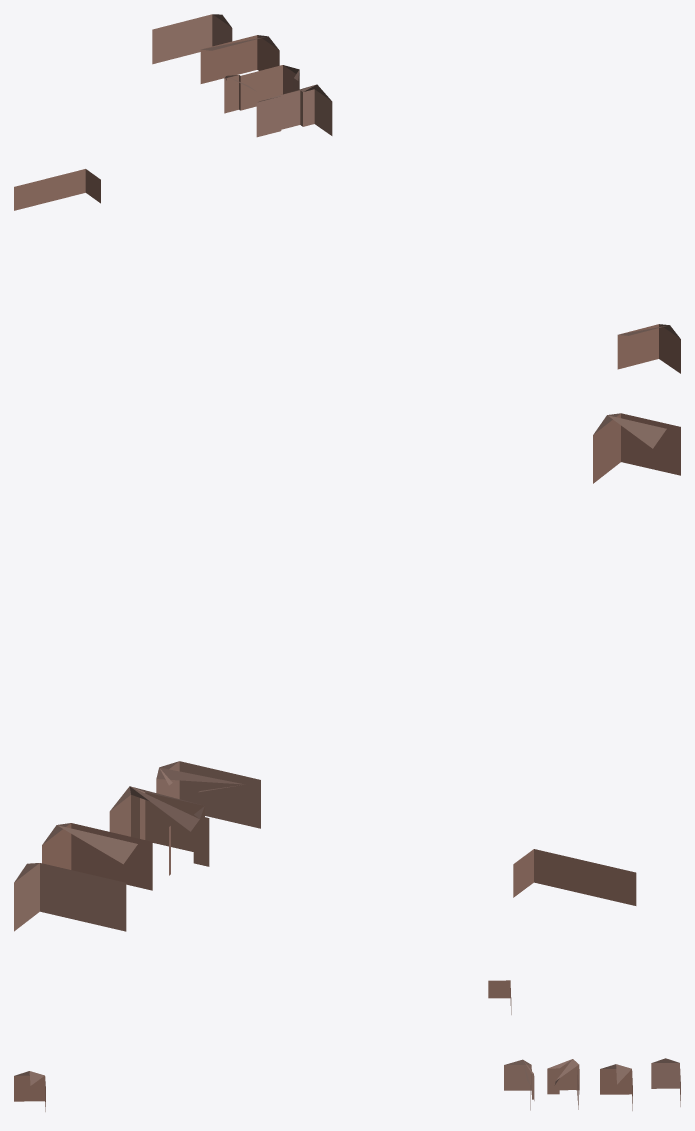
The model's file is c_1635_17835_buildings_residential.glb.
3 renders of one model, top to bottom at view 1: azimuth 30°, elevation 25°; view 2: azimuth 150°, elevation 25°; view 3: azimuth 270°, elevation 25°, orthographic. The views are drawn at different scales.
Visible parts, largest first — view 1: geometry_0; view 2: geometry_0; view 3: geometry_0.
Boxes of the visible parts, x1,y1,x2,y2 form: geometry_0: (14,14,680,373); geometry_0: (14,413,680,931); geometry_0: (14,980,680,1111).
Size of the model in its own units: 89.76 by 11.04 by 212.
